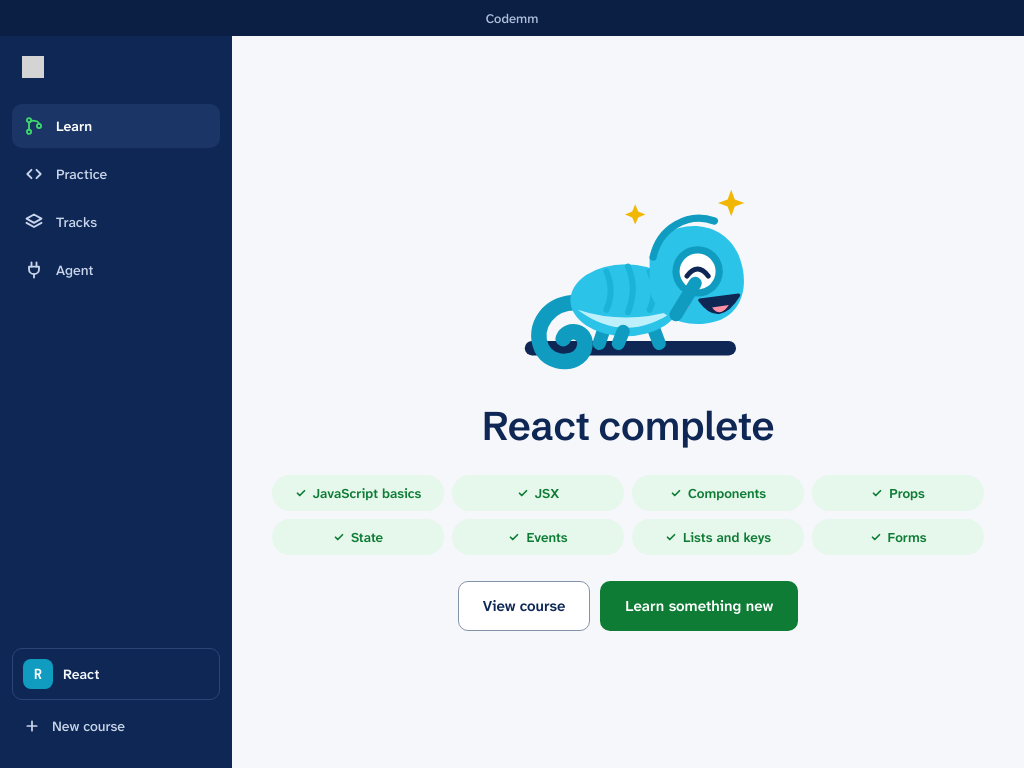
course map › celebrates a finished course, then offers something new
Check: the heading "React complete" is shown, box [482, 403, 774, 449]
Click the button "Learn something new".
click(699, 606)  # box [600, 581, 798, 631]
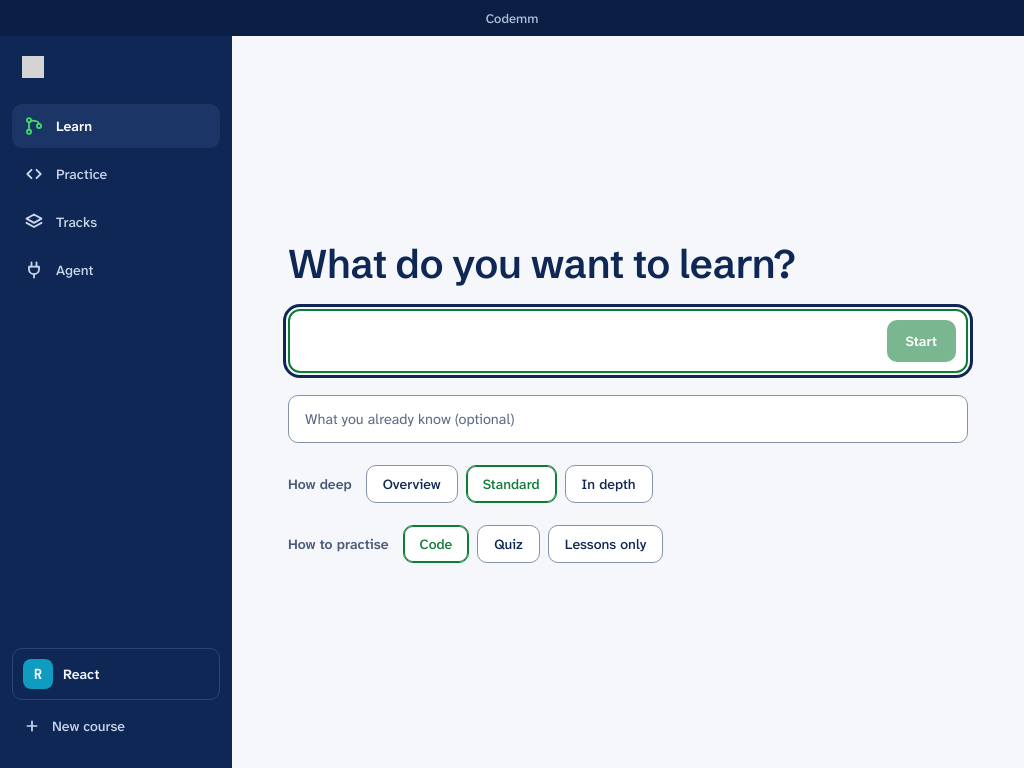
Check: the heading "What do you want to learn?" is shown, box [288, 239, 795, 288]
